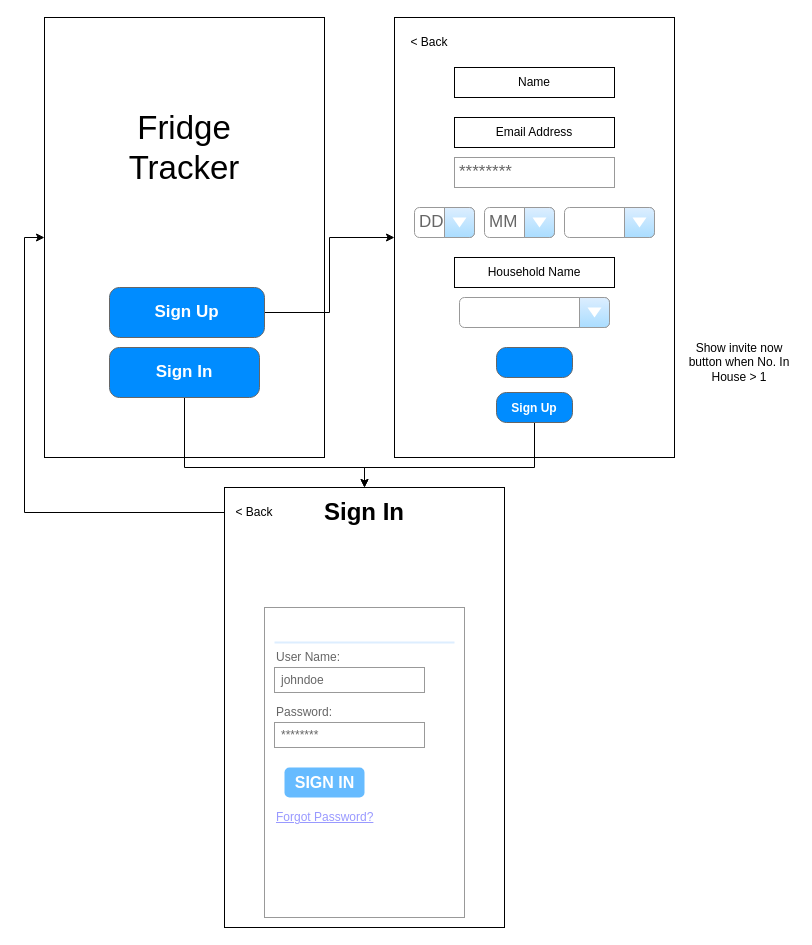
This 812x945 diagram has some shape labels left out. The shapes that lost their labels are listed below. From the top down, each one's box as (x1, y1, x2, y2) in pixels, then its label:
(564, 206, 654, 238): YYYY
(458, 296, 610, 328): No. In House
(496, 346, 572, 378): Invite Now
